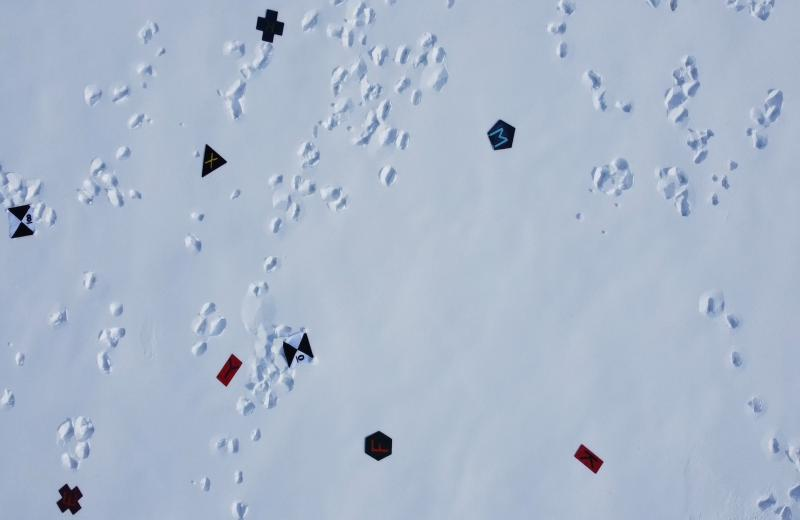Cross: (254, 6, 284, 45), (54, 480, 84, 518)
Hexagon: (360, 428, 395, 462)
Pentagon: (483, 115, 517, 152)
Rectangle: (571, 441, 605, 477), (216, 352, 246, 388)
Triangle: (198, 140, 229, 183)
